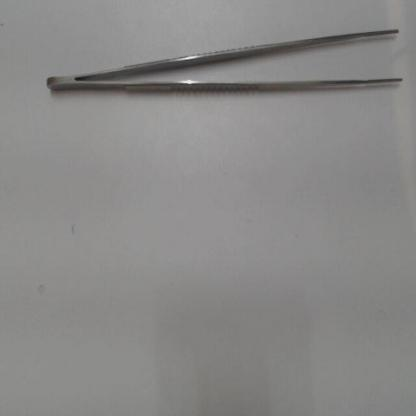DeBakey Dissector: (35, 14, 407, 130)
